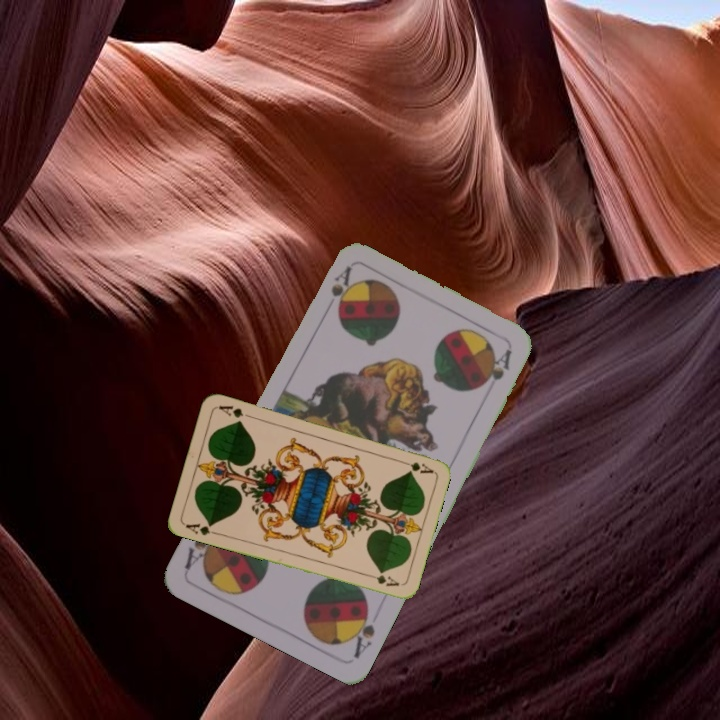GA: (181, 519, 221, 538), (396, 457, 436, 476)
SA: (345, 600, 378, 661), (327, 263, 354, 300)
